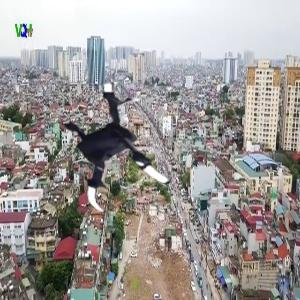drone: (39, 71, 185, 217)
